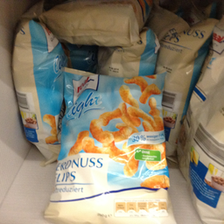chips: (47, 68, 174, 224)
